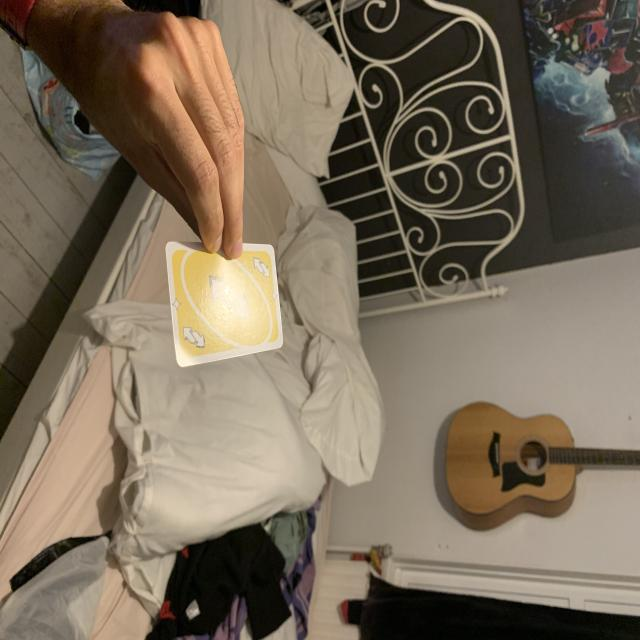lyellowrevers-20: (249, 255, 273, 281)
